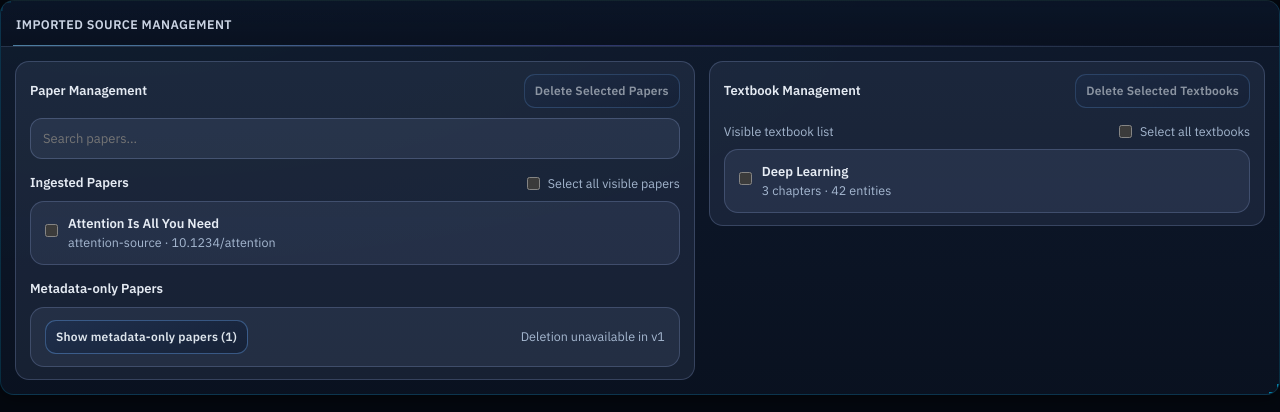
Test case: ImportedSourceManagement › surfaces textbook deletion item failures even when task record succeeds
Click the checkbox labelled "Deep Learning 3 chapters · 42 entities" at (745, 178), box [739,172,752,185]
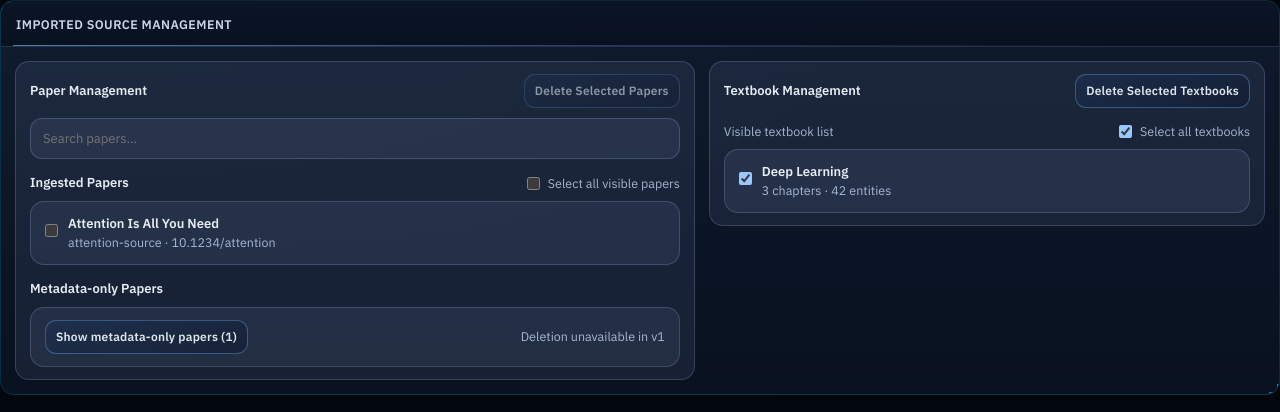
Click the button "Delete Selected Textbooks" at (1163, 91), box [1075,74,1250,108]
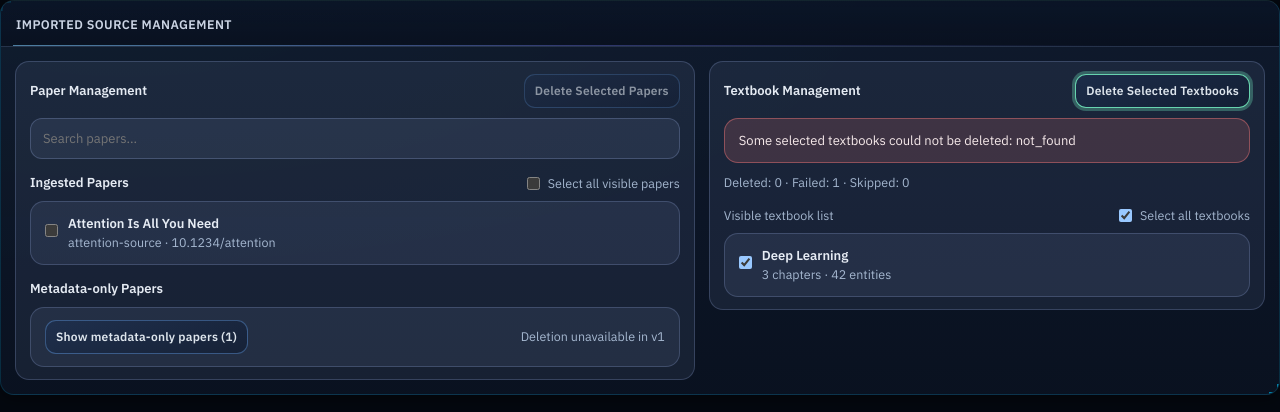
Now the text "Some selected textbooks could not be deleted: not_found" is shown, box [724,118,1250,163]
